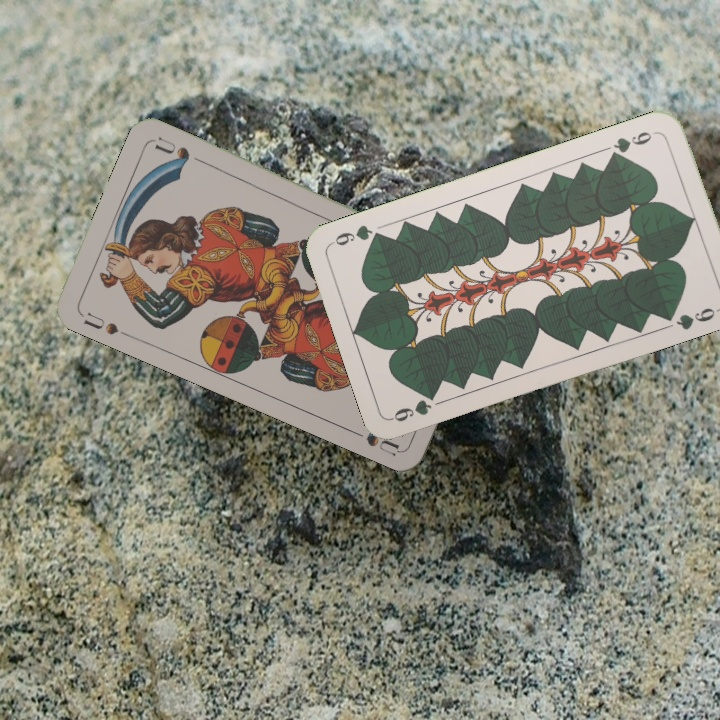G9: (388, 389, 439, 424), (605, 127, 655, 162)
SU: (79, 308, 133, 340)
